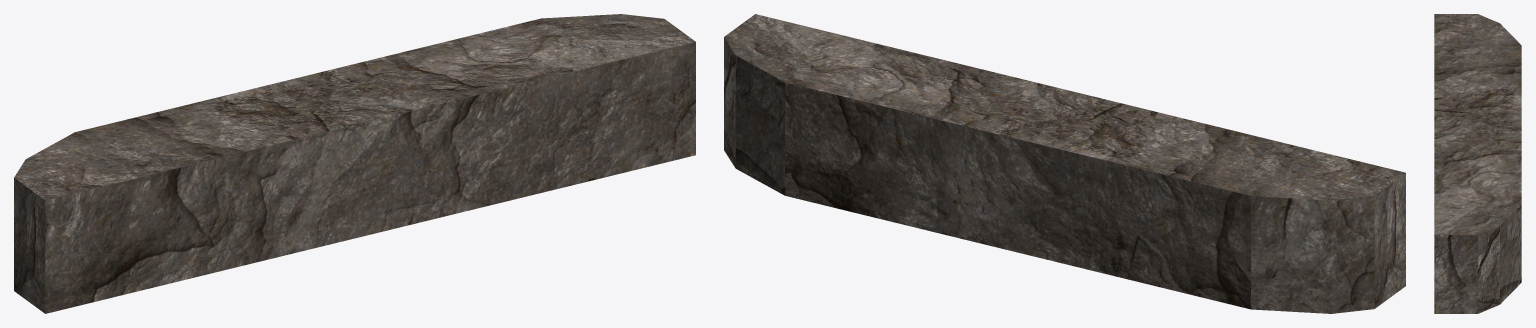
The model's file is rockpad.obj.
The picture shows the model from 3 angles, left to right: view 1: azimuth 30°, elevation 25°; view 2: azimuth 150°, elevation 25°; view 3: azimuth 270°, elevation 25°; orthographic projection. The views are drawn at different scales.
Visible parts, largest first — view 1: Cube; view 2: Cube; view 3: Cube.
Boxes of the visible parts, x1=… form: Cube: x1=14, y1=14, x2=695, y2=313; Cube: x1=724, y1=14, x2=1405, y2=313; Cube: x1=1434, y1=14, x2=1521, y2=313.
Bounding box in the file's own units: 6 × 1 × 1.
